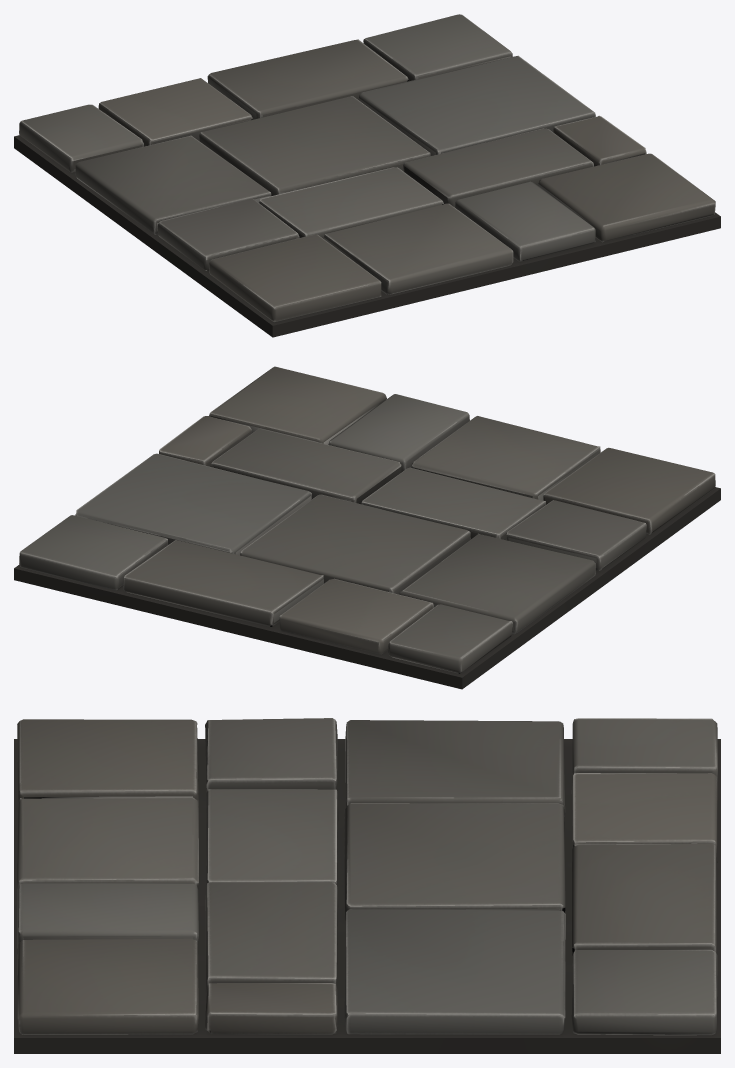
Rendered from gallows_floor_tile.glb.
3 renders of one model, top to bottom at view 1: azimuth 30°, elevation 25°; view 2: azimuth 150°, elevation 25°; view 3: azimuth 270°, elevation 25°, orthographic. The views are drawn at different scales.
Parts seen in each view (by area): view 1: gallows_floor_tile; view 2: gallows_floor_tile; view 3: gallows_floor_tile.
Part boxes in pixels (box(x1,y1,x2,y2)): gallows_floor_tile: box(14, 14, 720, 337); gallows_floor_tile: box(14, 366, 720, 689); gallows_floor_tile: box(14, 718, 720, 1053).
Bounding box in the file's own units: 4 × 0.2616 × 4.
Materials: 1 (1 with a texture image).
